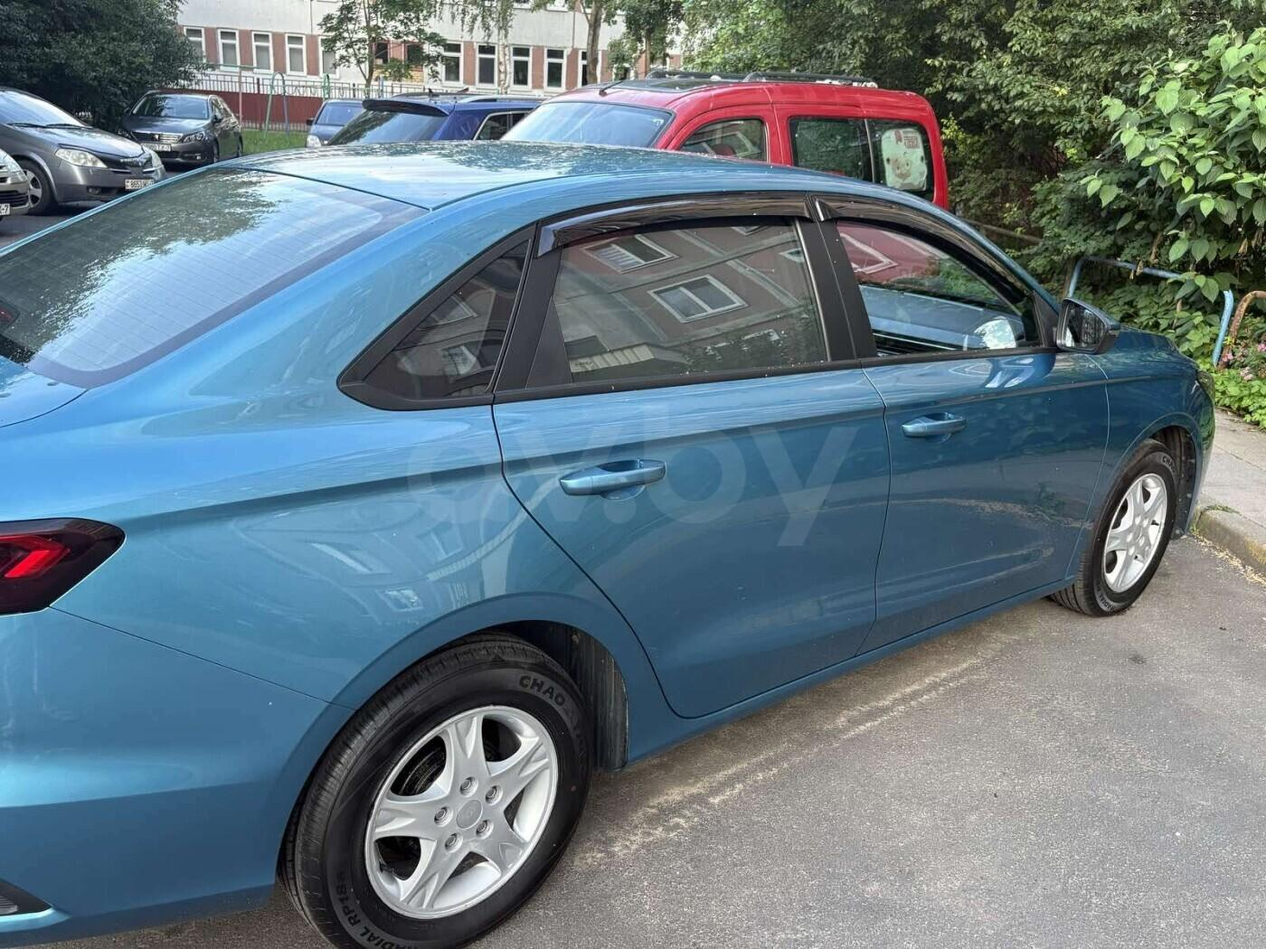Emgrand_2021: (0, 133, 1215, 949)
